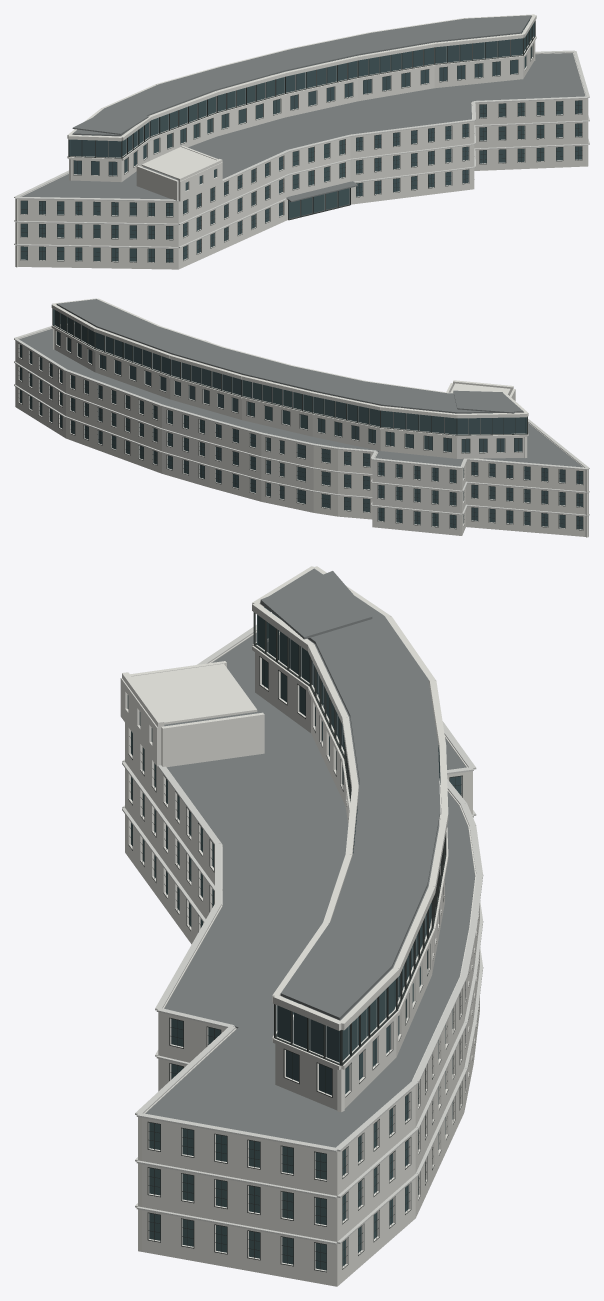
3 views of the same model, one above another, from view 1: azimuth 30°, elevation 25°; view 2: azimuth 150°, elevation 25°; view 3: azimuth 270°, elevation 25° (orthographic). The views are drawn at different scales.
Visible parts, largest first — view 1: lyceum__cream, lyceum__roof, lyceum__glass, lyceum__frame, lyceum__light; view 2: lyceum__cream, lyceum__glass, lyceum__roof, lyceum__frame, lyceum__light; view 3: lyceum__roof, lyceum__cream, lyceum__glass, lyceum__light, lyceum__frame.
Part boxes in pixels (x1,y1,x2,y2): lyceum__cream: [15, 14, 588, 269]; lyceum__roof: [22, 15, 585, 219]; lyceum__glass: [21, 20, 581, 262]; lyceum__frame: [20, 20, 582, 262]; lyceum__light: [14, 50, 589, 248]; lyceum__cream: [15, 298, 588, 537]; lyceum__glass: [19, 307, 582, 529]; lyceum__roof: [19, 299, 582, 467]; lyceum__frame: [18, 308, 583, 530]; lyceum__light: [14, 326, 589, 516]; lyceum__roof: [145, 568, 475, 1147]; lyceum__cream: [120, 566, 479, 1286]; lyceum__glass: [127, 607, 461, 1270]; lyceum__light: [122, 624, 483, 1244]; lyceum__frame: [128, 612, 479, 1272].
Bounding box in the file's own units: 121 × 23.73 × 33.56.
